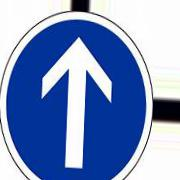forward: (2, 12, 153, 180)
